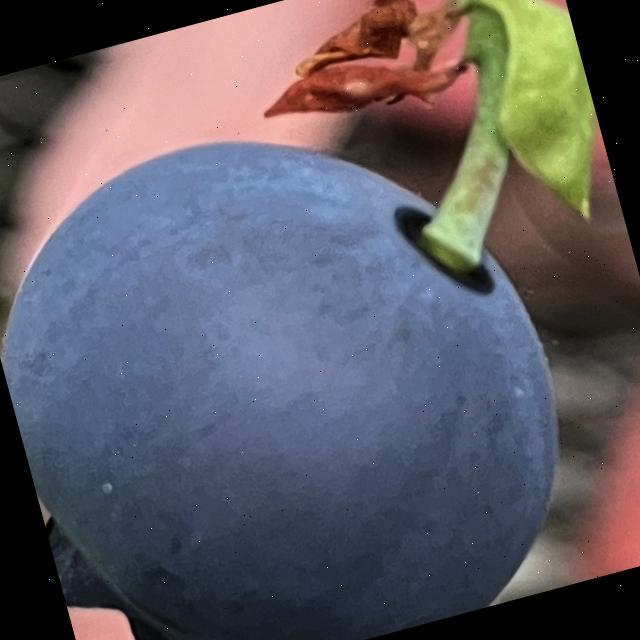Blueberries: (0, 62, 609, 640)
